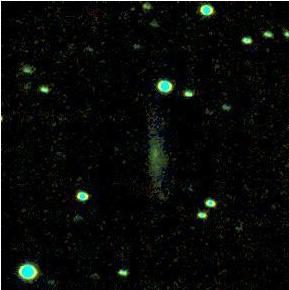star: (28, 72, 58, 102)
